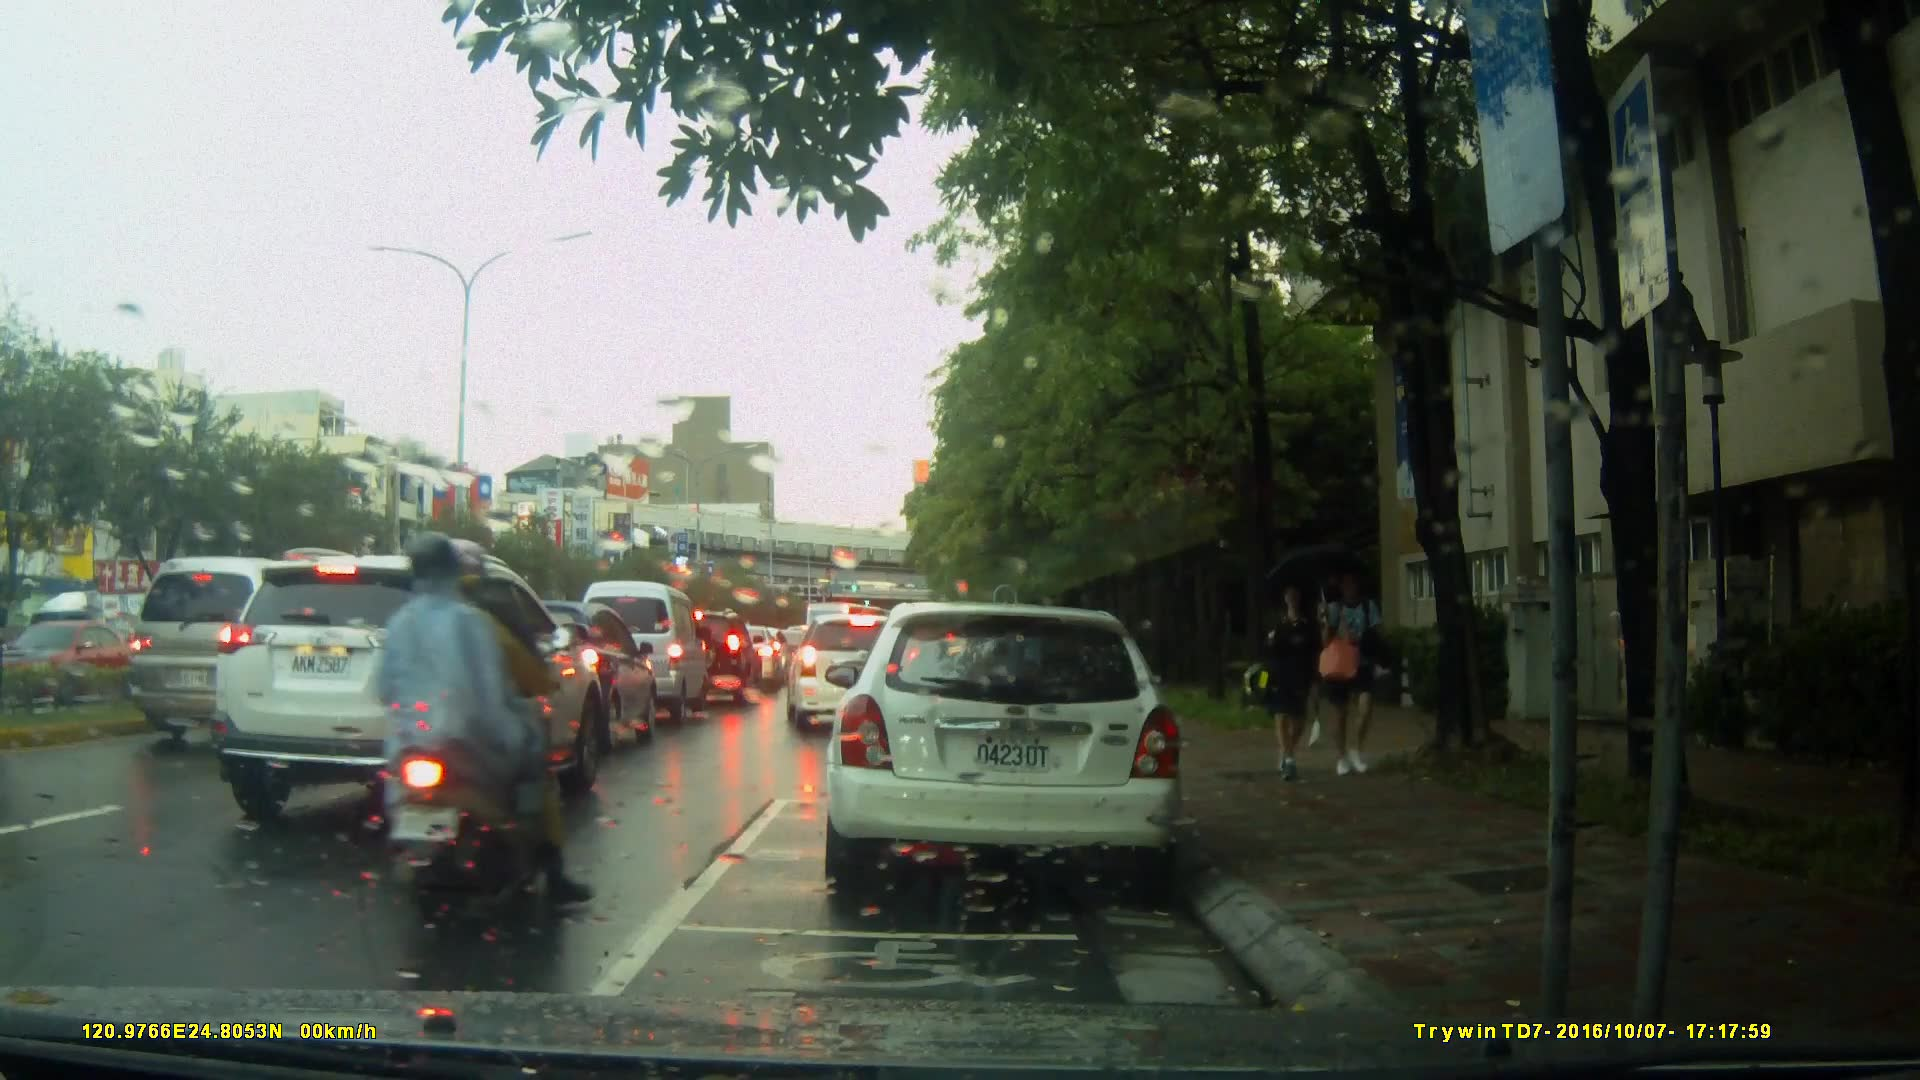pedestrian: (1250, 574, 1331, 787), (1309, 569, 1381, 785)
rider: (360, 528, 579, 925)
vehicle: (815, 593, 1204, 909), (209, 549, 613, 825), (127, 553, 329, 732), (462, 599, 666, 759), (568, 580, 711, 729), (785, 611, 926, 731), (1, 618, 138, 709), (655, 610, 761, 702)
